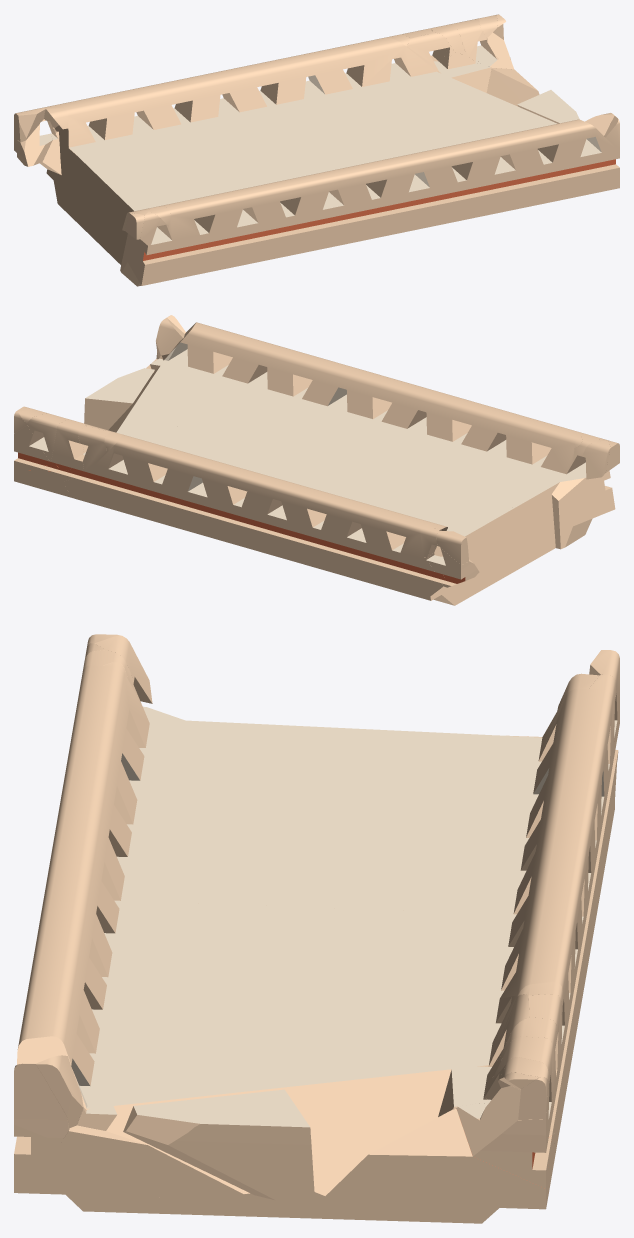
The model's file is Bridge_partB.fbx.
3 renders of one model, top to bottom at view 1: azimuth 30°, elevation 25°; view 2: azimuth 150°, elevation 25°; view 3: azimuth 270°, elevation 25°, orthographic. The views are drawn at different scales.
Visible parts, largest first — view 1: Bridge_partB; view 2: Bridge_partB; view 3: Bridge_partB.
Boxes of the visible parts, left/top/right/bottom form: Bridge_partB: left=14, top=14, right=619, bottom=286; Bridge_partB: left=14, top=315, right=619, bottom=605; Bridge_partB: left=14, top=634, right=619, bottom=1223.
Bounding box in the file's own units: 2625 × 439 × 1507.
